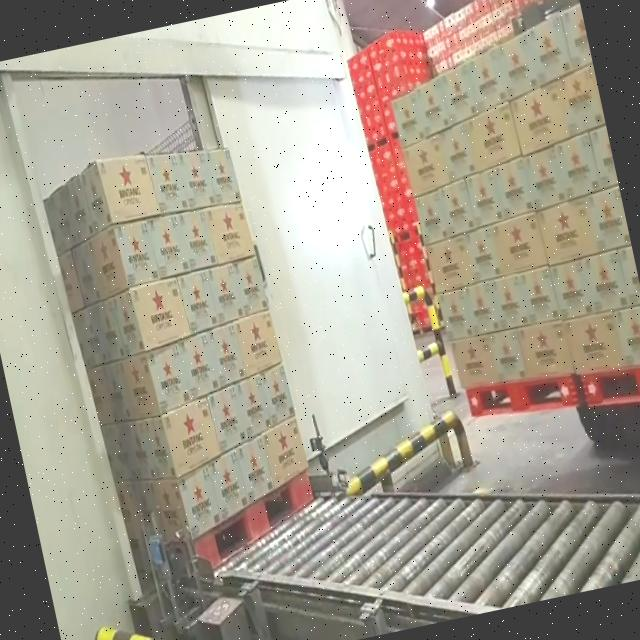pallet: (25, 114, 332, 604), (378, 29, 590, 447), (499, 0, 640, 441)
